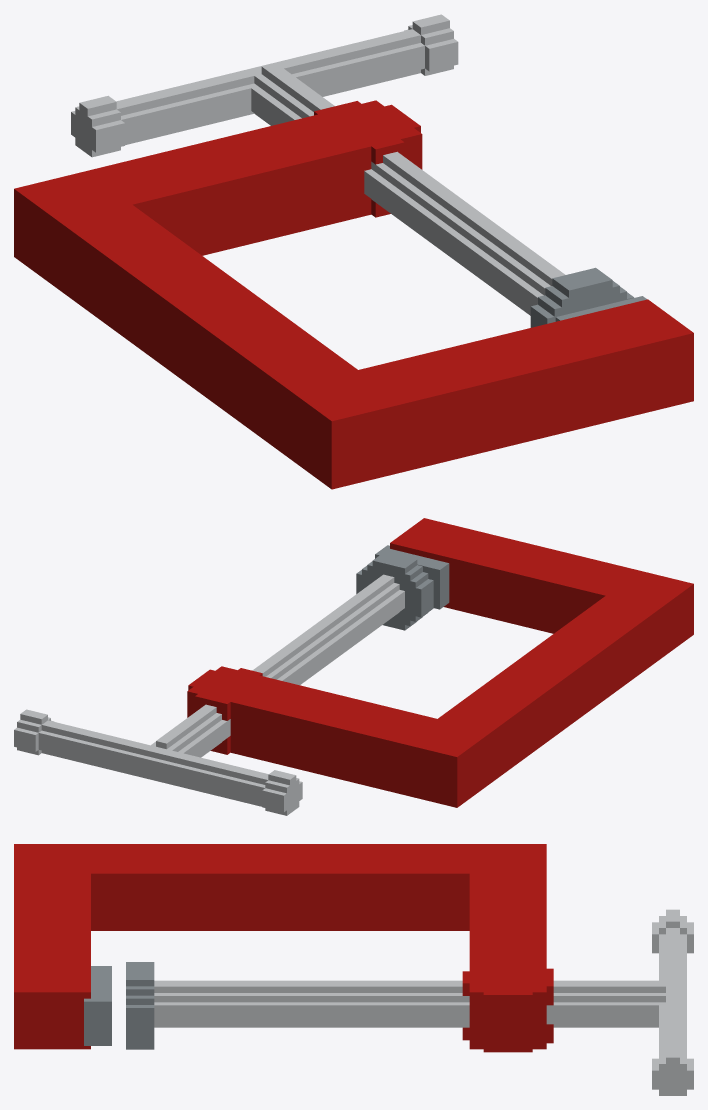
Rendered from clamp.glb.
The picture shows the model from 3 angles, top to bottom: view 1: azimuth 30°, elevation 25°; view 2: azimuth 150°, elevation 25°; view 3: azimuth 270°, elevation 25°; orthographic projection. The views are drawn at different scales.
Visible parts, largest first — view 1: clamp:compound; view 2: clamp:compound; view 3: clamp:compound.
Boxes of the visible parts, x1,y1,x2,y2 form: clamp:compound: [14, 14, 693, 489]; clamp:compound: [14, 518, 693, 815]; clamp:compound: [14, 844, 693, 1095].
Size of the model in its own units: 0.14 by 0.022 by 0.194.
